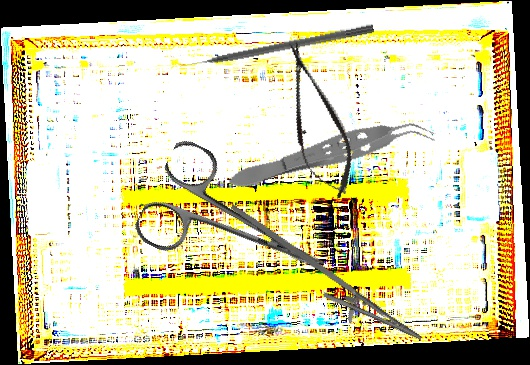Iris Scissors: (129, 135, 347, 320)
Micro Scissor: (268, 34, 365, 206)
Needle Holder: (209, 203, 436, 357)
Pusher: (178, 22, 375, 71)
Tissue Forceps: (224, 108, 439, 199)
